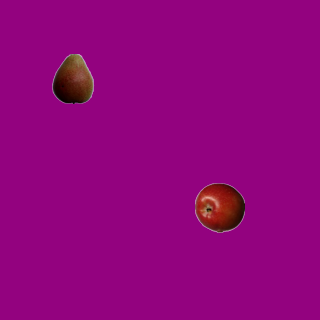Apple Braeburn: (194, 182, 244, 232)
Pear Forelle: (47, 53, 97, 103)
